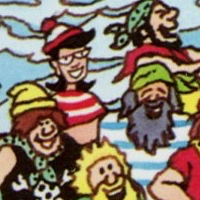wenda: (44, 16, 96, 90)
